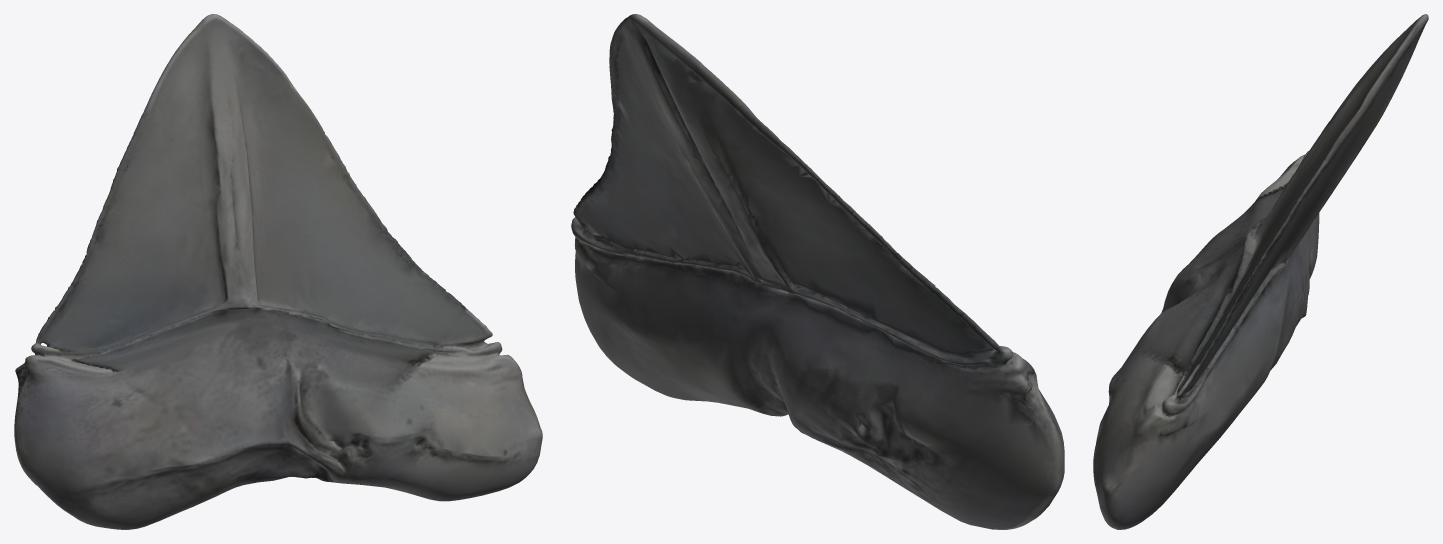
The model's file is shark.glb.
The picture shows the model from 3 angles, left to right: view 1: azimuth 30°, elevation 25°; view 2: azimuth 150°, elevation 25°; view 3: azimuth 270°, elevation 25°; orthographic projection. The views are drawn at different scales.
Parts seen in each view (by area): view 1: tripo_node_8c7edbf4-06c5-4331-8940-fe7460a299c6; view 2: tripo_node_8c7edbf4-06c5-4331-8940-fe7460a299c6; view 3: tripo_node_8c7edbf4-06c5-4331-8940-fe7460a299c6.
Boxes of the visible parts, x1,y1,x2,y2 form: tripo_node_8c7edbf4-06c5-4331-8940-fe7460a299c6: (14,14,542,529); tripo_node_8c7edbf4-06c5-4331-8940-fe7460a299c6: (571,14,1064,529); tripo_node_8c7edbf4-06c5-4331-8940-fe7460a299c6: (1093,14,1428,529).
Size of the model in its own units: 0.08 by 0.0709 by 0.049.
Materials: 1 (1 with a texture image).
